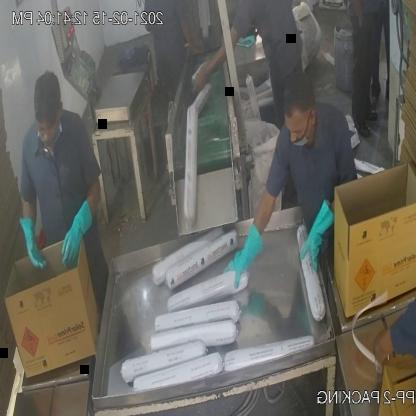glove: (222, 183, 280, 300), (294, 178, 344, 284), (56, 197, 98, 280), (15, 209, 47, 272)
no_glove: (192, 18, 244, 100), (368, 292, 416, 380), (180, 15, 203, 56)
